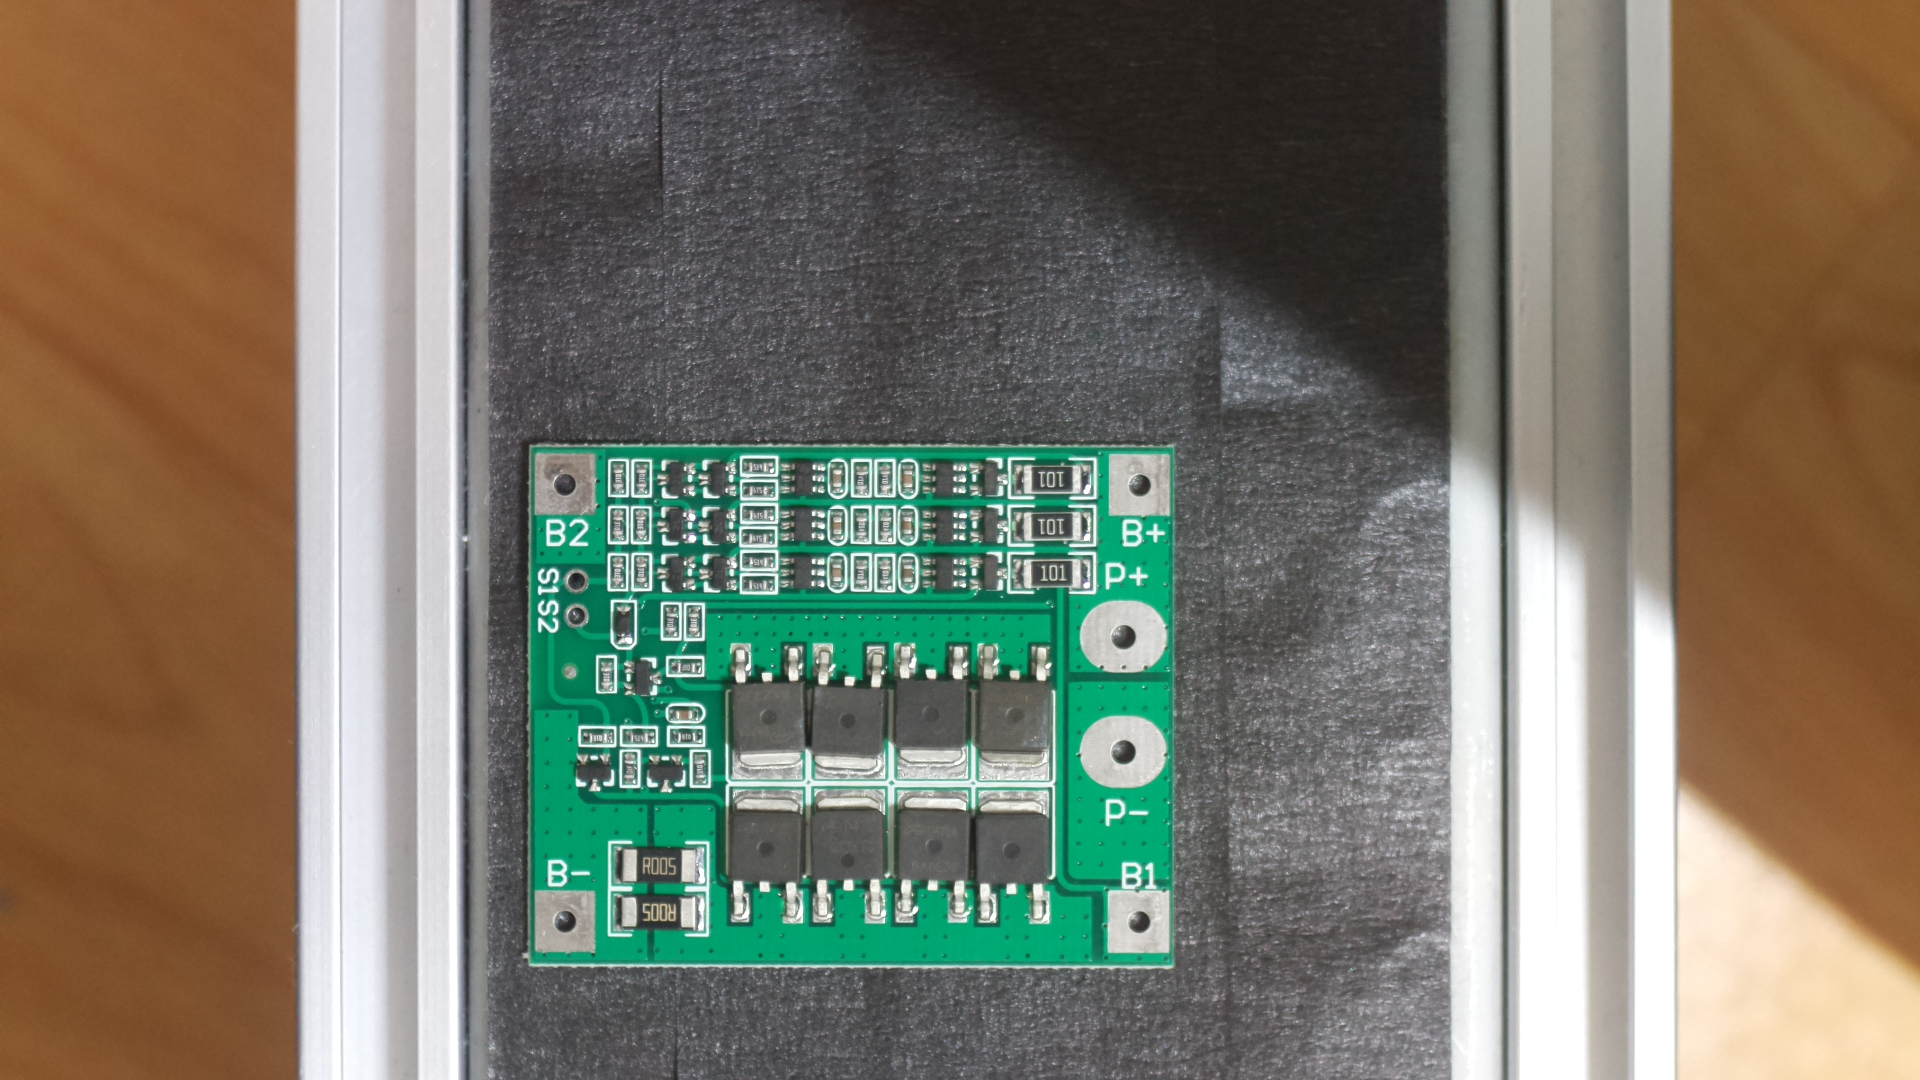C_Normal: (517, 429, 1180, 980)
